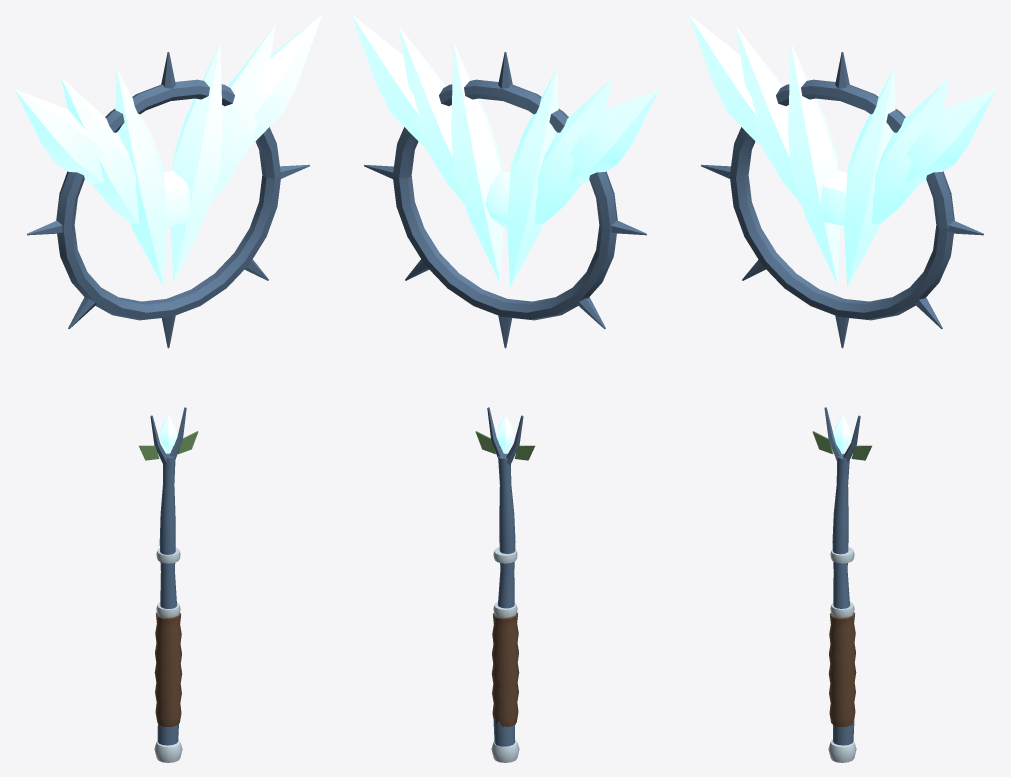
File: boss_winter_court_main_weapon.glb
3 views of the same model, side by side, from view 1: azimuth 30°, elevation 25°; view 2: azimuth 150°, elevation 25°; view 3: azimuth 330°, elevation 25° (orthographic).
Parts seen in each view (by area): view 1: boss_winter_court_main_weapon; view 2: boss_winter_court_main_weapon; view 3: boss_winter_court_main_weapon.
Boxes of the visible parts, x1,y1,x2,y2 form: boss_winter_court_main_weapon: (14,14,322,762); boss_winter_court_main_weapon: (351,14,659,762); boss_winter_court_main_weapon: (688,14,996,762).
Size of the model in its own units: 0.3271 by 0.7208 by 0.0471.
